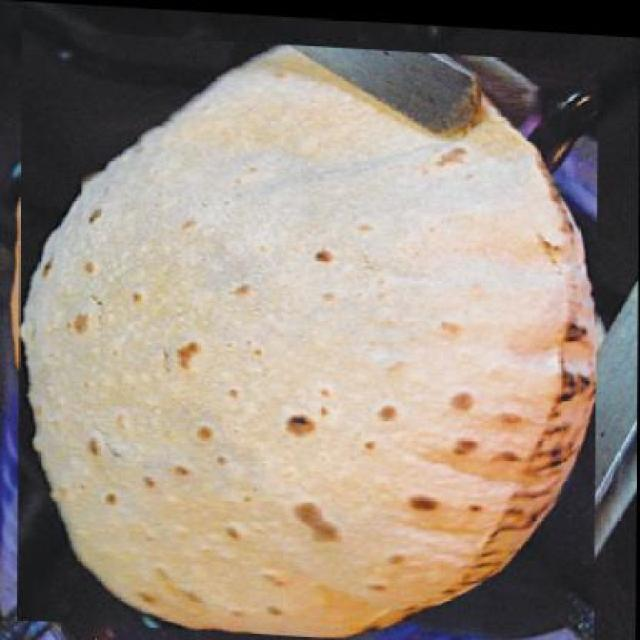chapati: (13, 31, 604, 638)
